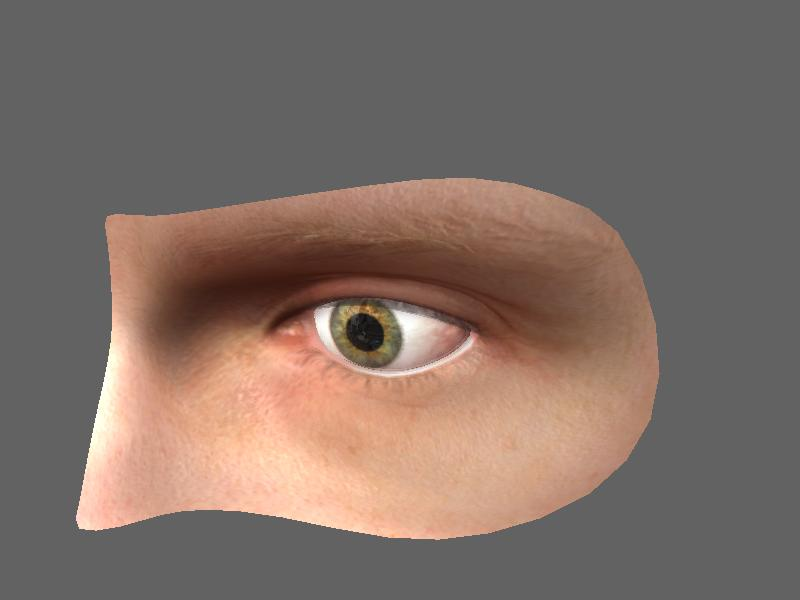iris: (317, 298, 407, 369)
